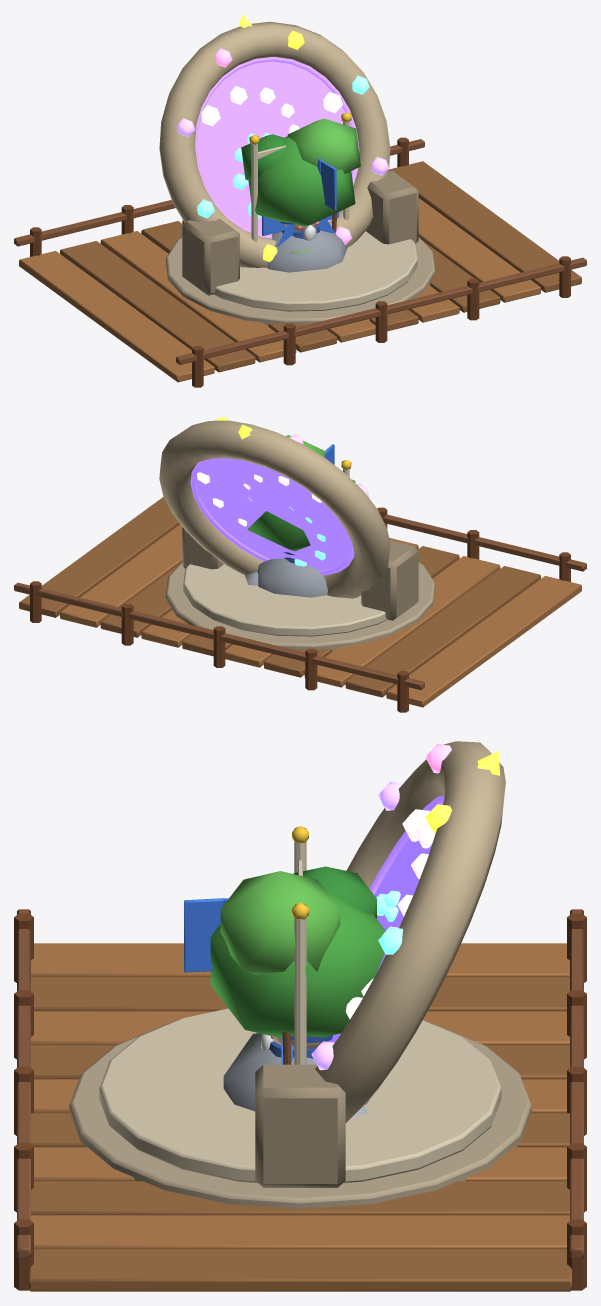
Rendered from ctf.glb.
The picture shows the model from 3 angles, top to bottom: view 1: azimuth 30°, elevation 25°; view 2: azimuth 150°, elevation 25°; view 3: azimuth 270°, elevation 25°; orthographic projection. The views are drawn at different scales.
Visible parts, largest first — view 1: ctf_bridge_body, ctf_gate_body, ctf_gate_swirl_body, ctf_tree_body, ctf_rock_body, ctf_banner_body, ctf_flag_body, ctf_keeper_body; view 2: ctf_bridge_body, ctf_gate_body, ctf_gate_swirl_body, ctf_rock_body, ctf_tree_body; view 3: ctf_bridge_body, ctf_gate_body, ctf_tree_body, ctf_gate_swirl_body, ctf_banner_body, ctf_rock_body, ctf_flag_body, ctf_keeper_body.
Boxes of the visible parts, left/top/right/bottom form: ctf_bridge_body: left=14, top=137, right=586, bottom=387; ctf_gate_body: left=159, top=14, right=435, bottom=326; ctf_gate_swirl_body: left=197, top=61, right=352, bottom=234; ctf_tree_body: left=241, top=118, right=360, bottom=226; ctf_rock_body: left=267, top=230, right=347, bottom=272; ctf_banner_body: left=249, top=112, right=351, bottom=247; ctf_flag_body: left=317, top=158, right=336, bottom=210; ctf_keeper_body: left=280, top=213, right=337, bottom=240; ctf_bridge_body: left=14, top=497, right=586, bottom=712; ctf_gate_body: left=159, top=416, right=435, bottom=651; ctf_gate_swirl_body: left=195, top=458, right=352, bottom=570; ctf_rock_body: left=245, top=558, right=327, bottom=597; ctf_tree_body: left=247, top=435, right=355, bottom=551; ctf_bridge_body: left=14, top=909, right=586, bottom=1291; ctf_gate_body: left=69, top=741, right=531, bottom=1208; ctf_tree_body: left=210, top=866, right=385, bottom=1038; ctf_gate_swirl_body: left=327, top=804, right=442, bottom=1042; ctf_banner_body: left=281, top=826, right=308, bottom=1064; ctf_rock_body: left=223, top=1033, right=372, bottom=1118; ctf_flag_body: left=184, top=898, right=228, bottom=972; ctf_keeper_body: left=261, top=1032, right=332, bottom=1064.
Bounding box in the file's own units: 8 × 4.46 × 5.7.
